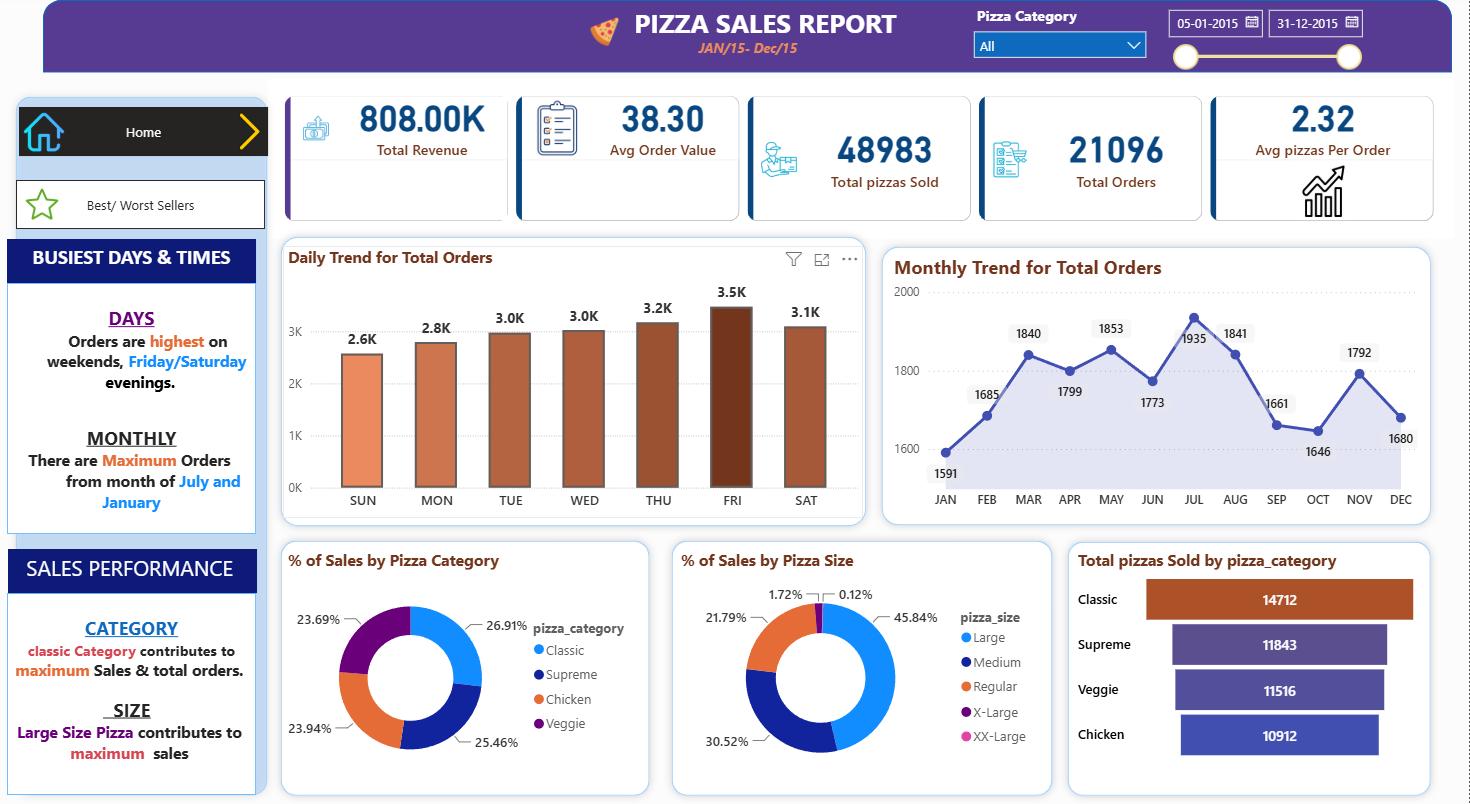

This screenshot's page, from the dashboard's own definition file:
{"tool":"powerbi","page":{"name":"Home","canvas":[1500,820],"ordinal":0},"visuals":[{"type":"cardVisual","fields":{"Data":["pizza_sales.Total Revenue","pizza_sales.Avg Order Value","pizza_sales.Total pizzas Sold","pizza_sales.Total Orders","pizza_sales.Avg pizzas Per Order"]},"box":[274.7,80.9,1210.5,163],"z":0},{"type":"shape","box":[45,0,1437,74],"z":1000},{"type":"textbox","box":[634,0,295,65],"z":2000},{"type":"textbox","box":[634,35,259,46],"z":3000},{"type":"image","box":[593,17,49,30],"z":4000},{"type":"shape","box":[279.5,233.6,613,311.1],"z":5000},{"type":"columnChart","title":"Daily Trend for Total Orders","fields":{"Category":["pizza_sales.Order Day"],"Y":["pizza_sales.Total Orders"]},"box":[289.7,250.9,591.5,277.4],"z":6000},{"type":"shape","box":[9.1,91.2,272.4,728.3],"z":7000},{"type":"shape","box":[892,244,576,300],"z":8000},{"type":"areaChart","title":"Monthly Trend for Total Orders","fields":{"Y":["pizza_sales.Total Orders"],"Category":["pizza_sales.Order Month"]},"box":[908,259,544,269],"z":9000},{"type":"shape","box":[279,544,392,276],"z":10000},{"type":"textbox","box":[8,244,254,45],"z":11000},{"type":"shape","box":[678,544,404,276],"z":12000},{"type":"shape","box":[1082,545,386,275],"z":13000},{"type":"donutChart","title":"% of Sales by Pizza Category","fields":{"Category":["pizza_sales.pizza_category"],"Y":["pizza_sales.Total Revenue"]},"box":[290,560,369,242],"z":14000},{"type":"donutChart","title":"% of Sales by Pizza Size","fields":{"Y":["pizza_sales.Total Revenue"],"Category":["pizza_sales.pizza_size"]},"box":[690,560,375,242],"z":15000},{"type":"funnel","fields":{"Category":["pizza_sales.pizza_category"],"Y":["pizza_sales.Total pizzas Sold"]},"box":[1095,560,357,220],"z":16000},{"type":"textbox","box":[8,289,254,256],"z":17000},{"type":"textbox","box":[8,605,254,206],"z":18000},{"type":"textbox","box":[9,560,254,45],"z":19000},{"type":"slicer","fields":{"Values":["pizza_sales.pizza_category"]},"box":[984,0,196,74],"z":20000},{"type":"slicer","fields":{"Values":["pizza_sales.order_date"]},"box":[1180,0,218,74],"z":21000},{"type":"pageNavigator","box":[20.5,109.4,254.2,50.2],"z":22000},{"type":"pageNavigator","box":[17.1,183.5,254.2,50.2],"z":23000},{"type":"image","box":[237.1,109.4,37.6,50.2],"z":24000},{"type":"image","box":[20.5,114,50.2,41],"z":25000},{"type":"image","box":[20.5,191.5,46.7,33.1],"z":26000}]}

Visuals, with their boxes in screenshot pixels (x1, y1, x2, y2), scaled from the page's 1500x820 canvas onto the 1470x804 screenshot:
cardVisual - pizza_sales.Total Revenue x pizza_sales.Avg Order Value: [x1=269, y1=79, x2=1455, y2=239]
shape: [x1=44, y1=0, x2=1452, y2=73]
textbox: [x1=621, y1=0, x2=910, y2=64]
textbox: [x1=621, y1=34, x2=875, y2=79]
image: [x1=581, y1=17, x2=629, y2=46]
shape: [x1=274, y1=229, x2=875, y2=534]
"Daily Trend for Total Orders" columnChart: [x1=284, y1=246, x2=864, y2=518]
shape: [x1=9, y1=89, x2=276, y2=803]
shape: [x1=874, y1=239, x2=1439, y2=533]
"Monthly Trend for Total Orders" areaChart: [x1=890, y1=254, x2=1423, y2=518]
shape: [x1=273, y1=533, x2=658, y2=803]
textbox: [x1=8, y1=239, x2=257, y2=283]
shape: [x1=664, y1=533, x2=1060, y2=803]
shape: [x1=1060, y1=534, x2=1439, y2=803]
"% of Sales by Pizza Category" donutChart: [x1=284, y1=549, x2=646, y2=786]
"% of Sales by Pizza Size" donutChart: [x1=676, y1=549, x2=1044, y2=786]
funnel - pizza_sales.pizza_category x pizza_sales.Total pizzas Sold: [x1=1073, y1=549, x2=1423, y2=765]
textbox: [x1=8, y1=283, x2=257, y2=534]
textbox: [x1=8, y1=593, x2=257, y2=795]
textbox: [x1=9, y1=549, x2=258, y2=593]
slicer - pizza_sales.pizza_category: [x1=964, y1=0, x2=1156, y2=73]
slicer - pizza_sales.order_date: [x1=1156, y1=0, x2=1370, y2=73]
pageNavigator: [x1=20, y1=107, x2=269, y2=156]
pageNavigator: [x1=17, y1=180, x2=266, y2=229]
image: [x1=232, y1=107, x2=269, y2=156]
image: [x1=20, y1=112, x2=69, y2=152]
image: [x1=20, y1=188, x2=66, y2=220]
